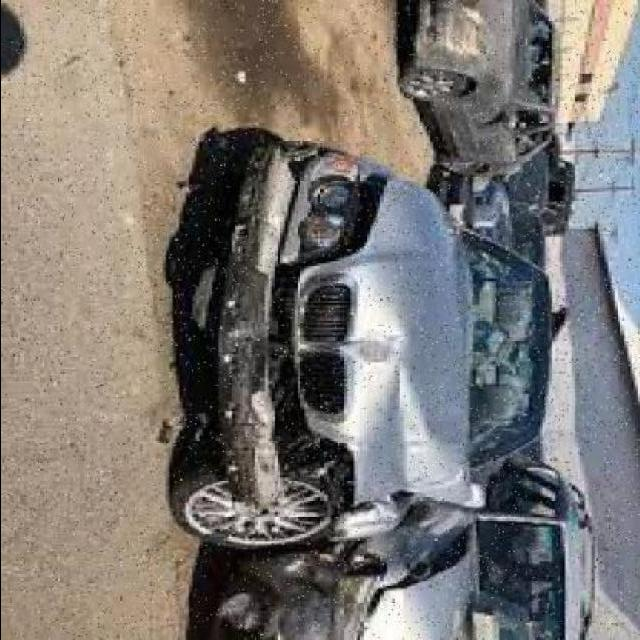bonnet-dent: (331, 185, 460, 498)
front-bumper-dent: (214, 148, 352, 517)
